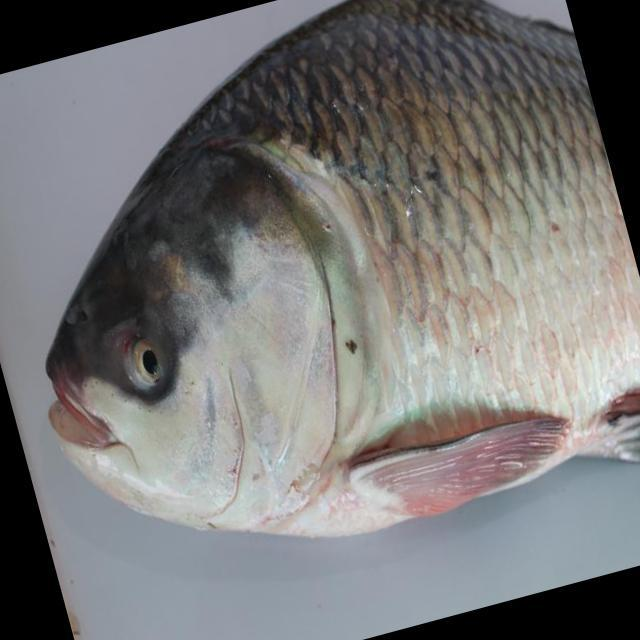Catla: (47, 1, 640, 524)
